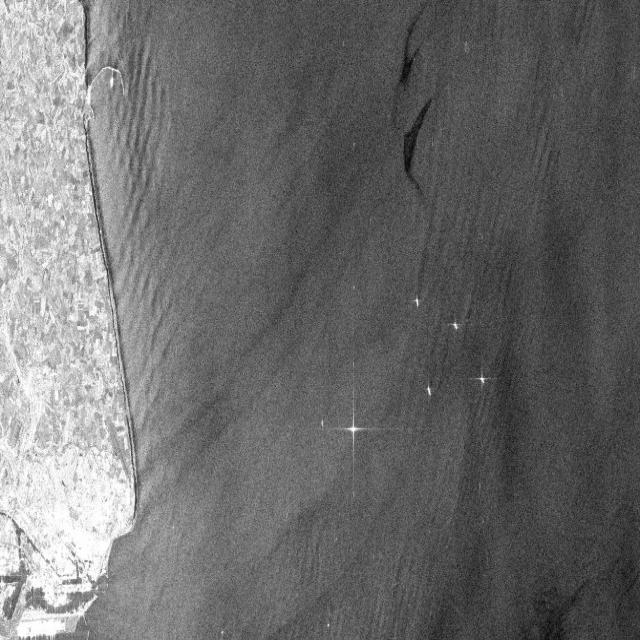oil-spill: (400, 105, 438, 196), (393, 5, 428, 92)
ship: (337, 394, 371, 472), (422, 373, 434, 405), (476, 366, 488, 394), (410, 288, 421, 314), (450, 316, 461, 335)
